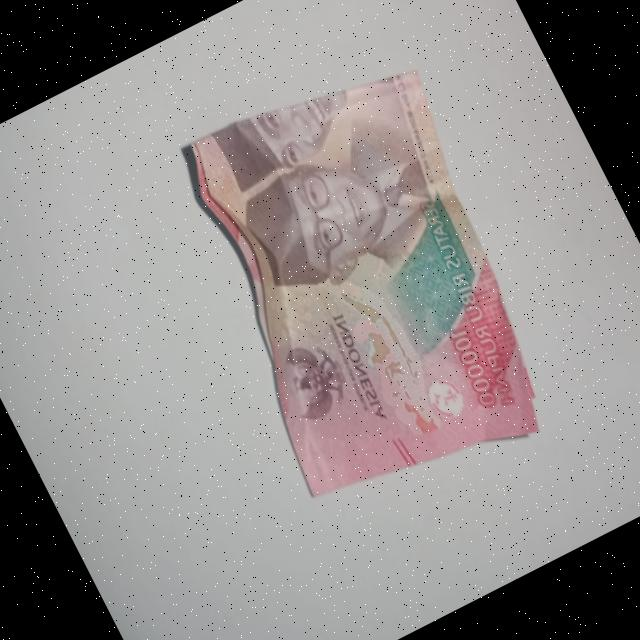100K: (140, 33, 592, 547)
